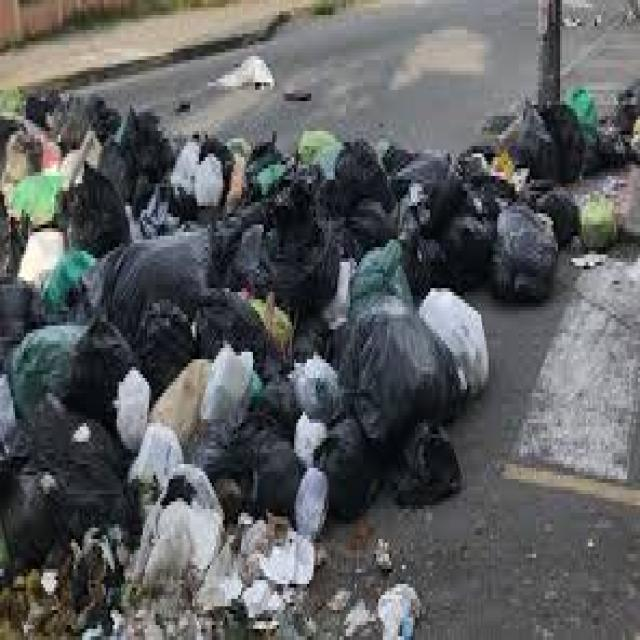garbage: (0, 81, 627, 632)
